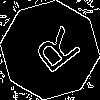R: (25, 25, 83, 81)
